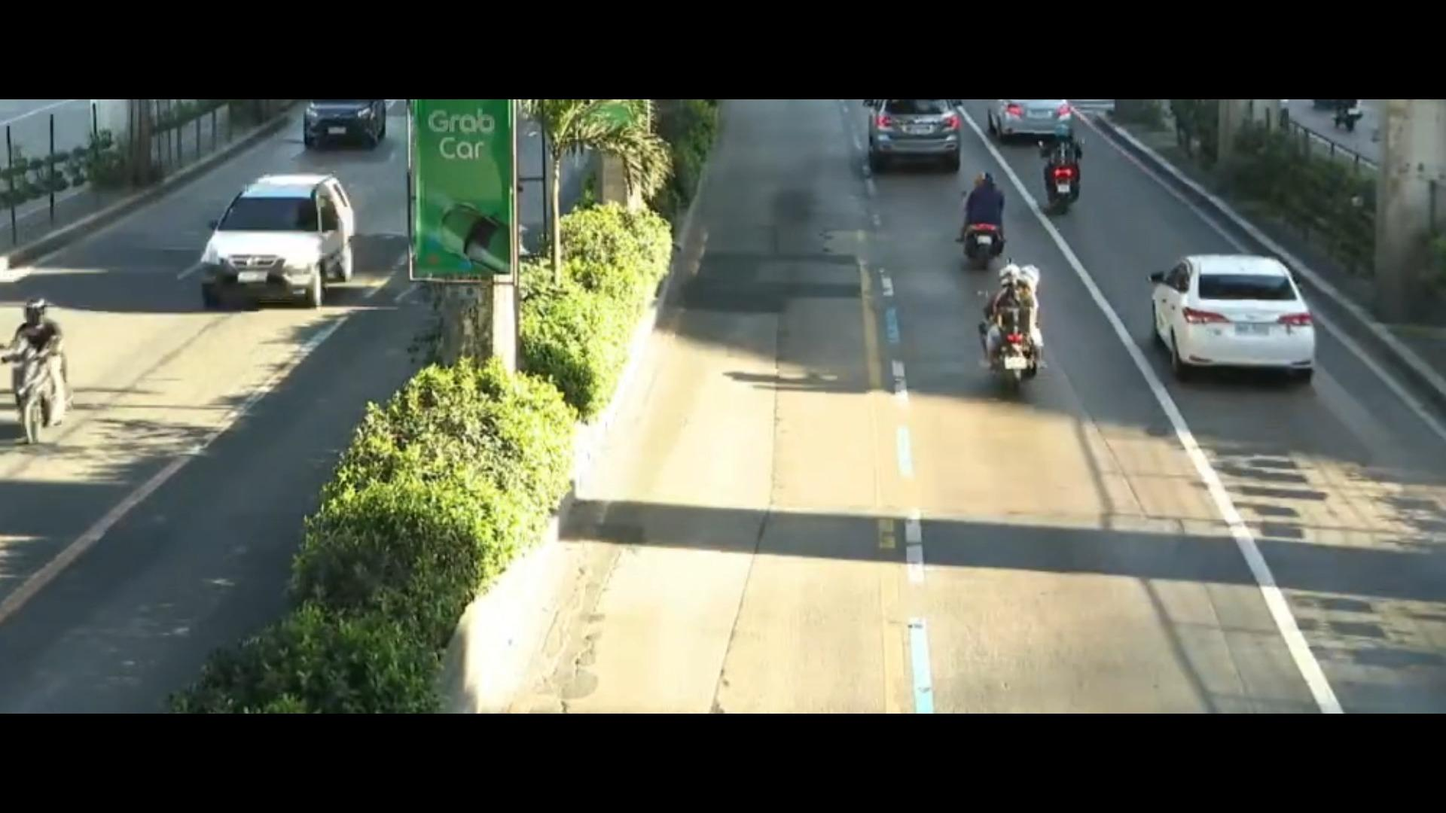Motorcycle: (951, 256, 1068, 398), (936, 153, 1030, 303), (6, 281, 72, 476), (1028, 119, 1106, 235)
SUV: (176, 158, 369, 325)
Sedan: (1106, 192, 1360, 407)
